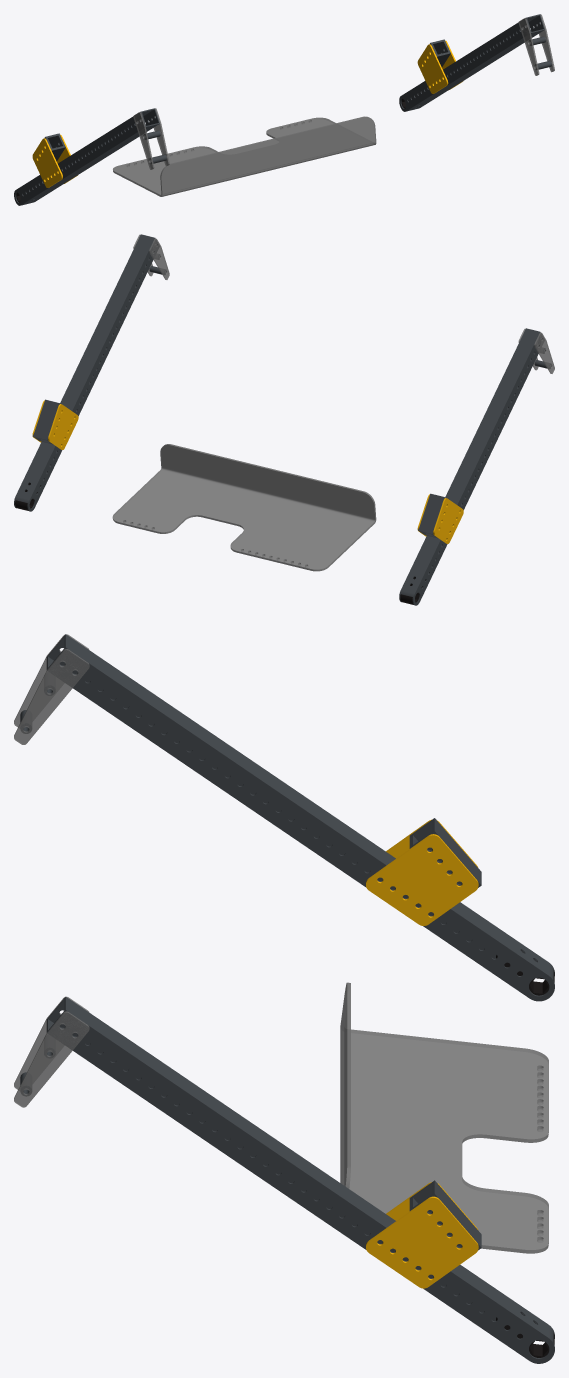
3 views of the same model, one above another, from view 1: azimuth 30°, elevation 25°; view 2: azimuth 150°, elevation 25°; view 3: azimuth 270°, elevation 25° (orthographic). The views are drawn at different scales.
Parts seen in each view (by area): view 1: Part 27, Tube 1"x1"x19.5" (×2), Part 2 (×2), Part 3 (×4), Tube 1"x1"x2.398" (×2); view 2: Part 27, Tube 1"x1"x19.5" (×2), Part 2 (×2), Tube 1"x1"x2.398" (×2); view 3: Tube 1"x1"x19.5" (×2), Part 27, Part 2 (×2), Part 3 (×2), Tube 1"x1"x2.398" (×2).
Part boxes in pixels (<box>): Part 27: <box>113,116,376,196</box>; Tube 1"x1"x19.5" (×2): <box>14,14,544,205</box>; Part 2 (×2): <box>32,44,448,187</box>; Part 3 (×4): <box>133,14,554,169</box>; Tube 1"x1"x2.398" (×2): <box>38,39,450,161</box>; Part 27: <box>112,444,376,571</box>; Tube 1"x1"x19.5" (×2): <box>14,234,541,605</box>; Part 2 (×2): <box>48,404,463,543</box>; Tube 1"x1"x2.398" (×2): <box>33,399,445,538</box>; Tube 1"x1"x19.5" (×2): <box>46,634,554,1363</box>; Part 27: <box>340,982,548,1253</box>; Part 2 (×2): <box>366,834,478,1288</box>; Part 3 (×2): <box>14,649,89,1107</box>; Tube 1"x1"x2.398" (×2): <box>409,818,481,1250</box>.
Size of the model in its own units: 0.7158 by 0.3123 by 0.4326.
